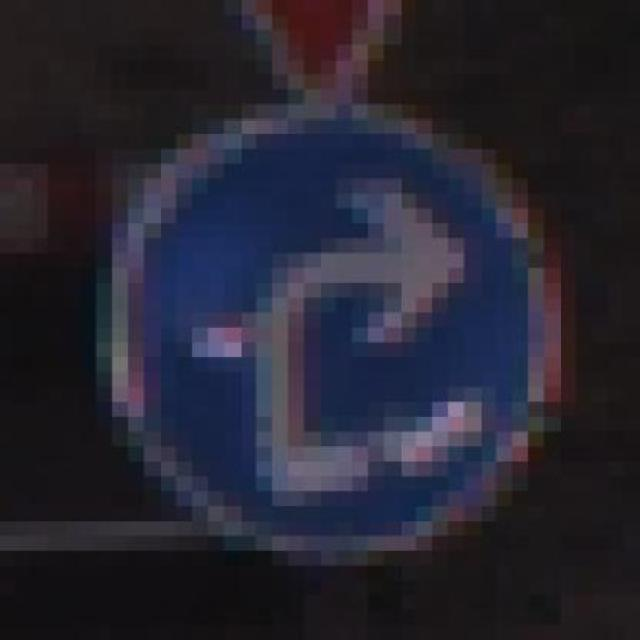Turn right ahead: (48, 74, 592, 566)
